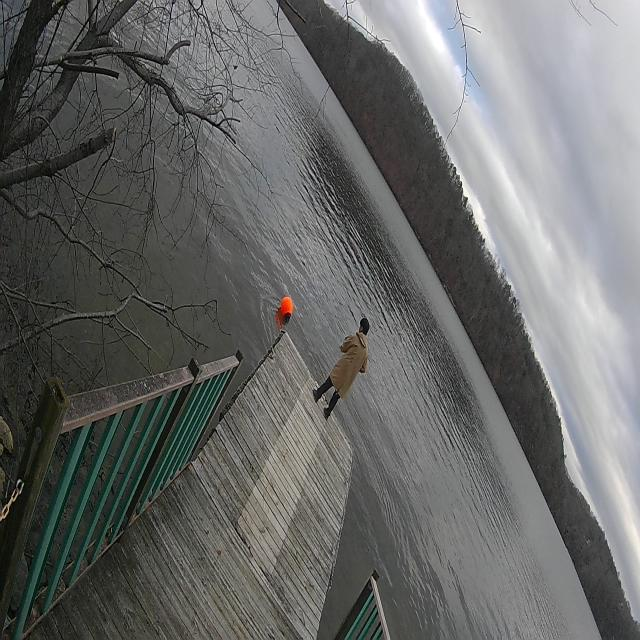Buoy: (276, 282, 296, 333)
